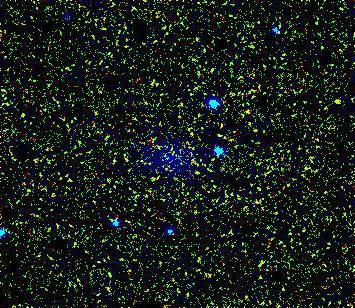star: (322, 85, 352, 115)
